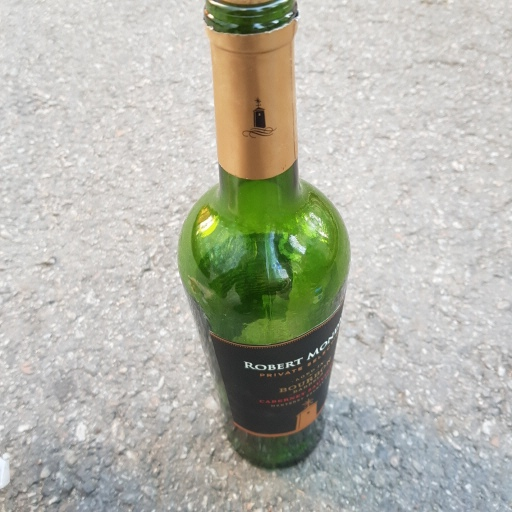Glass_2: (178, 1, 345, 471)
